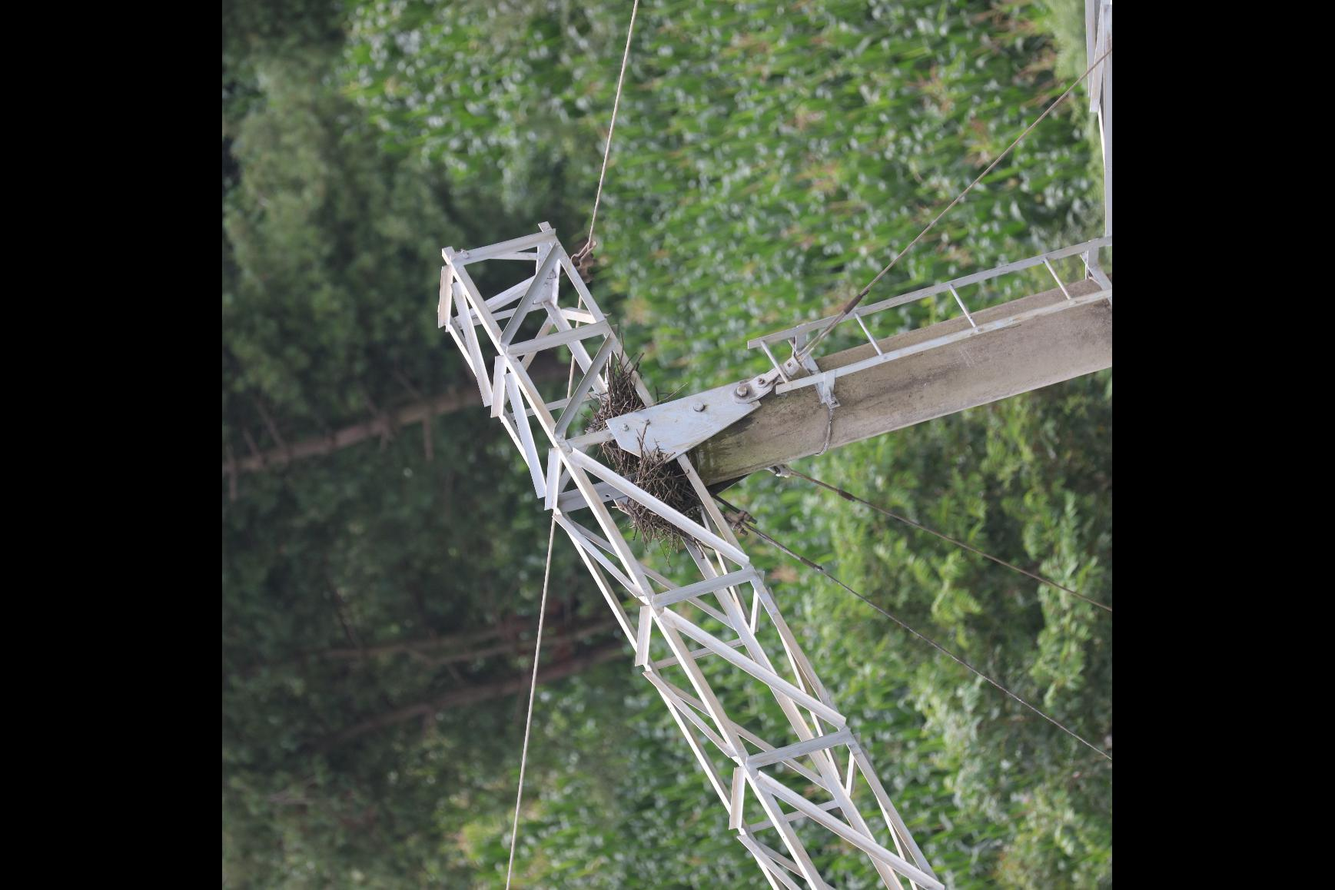nest: (585, 364, 699, 546)
